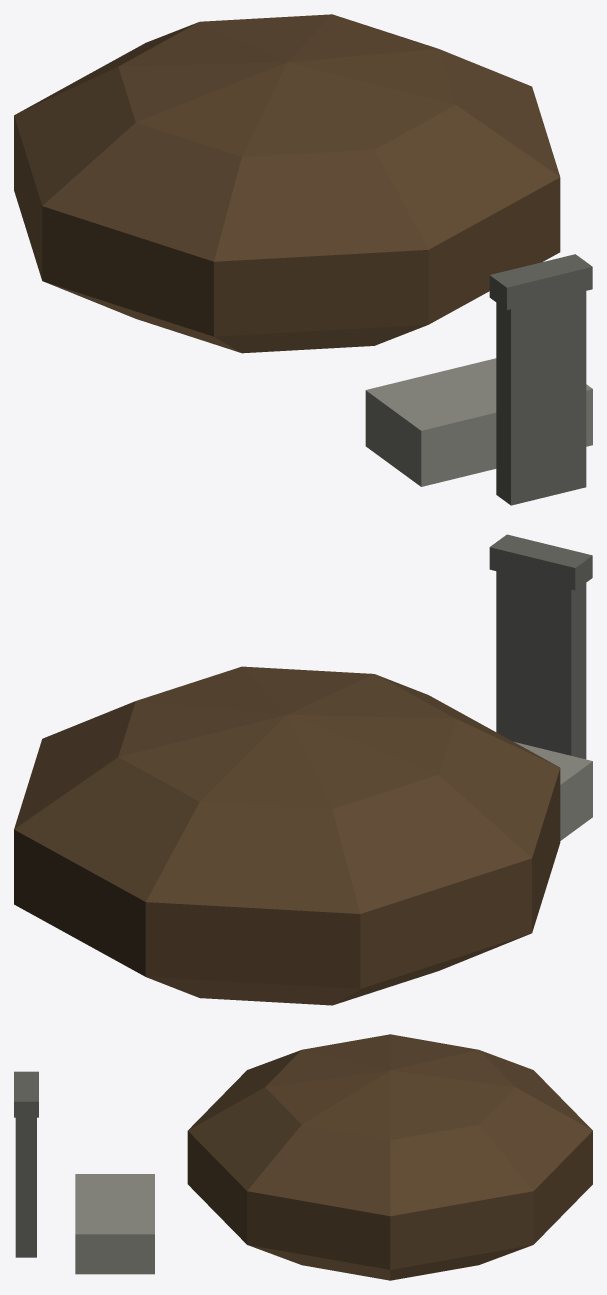
File: prop_grave.glb
The picture shows the model from 3 angles, top to bottom: view 1: azimuth 30°, elevation 25°; view 2: azimuth 150°, elevation 25°; view 3: azimuth 270°, elevation 25°; orthographic projection. The views are drawn at different scales.
Visible parts, largest first — view 1: prop_grave; view 2: prop_grave; view 3: prop_grave.
Boxes of the visible parts, x1,y1,x2,y2 form: prop_grave: [14, 14, 592, 505]; prop_grave: [14, 534, 592, 1005]; prop_grave: [14, 1034, 592, 1280].
Size of the model in its own units: 2.28 by 1.08 by 3.26.
